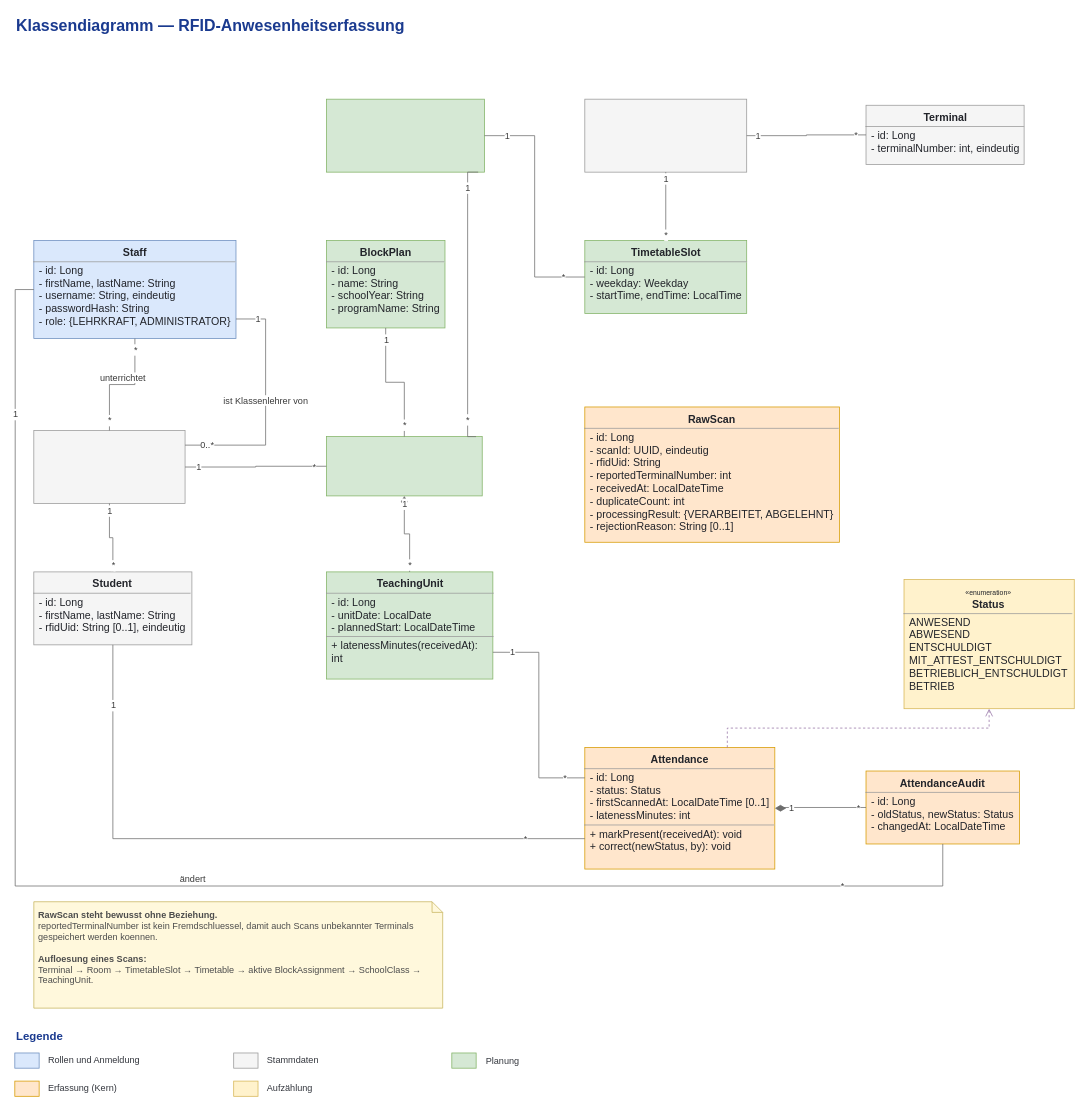
Some shapes in this 1088 by 1110 pixel diagram are drawn without their labels. The centre of each missing label's shape, as x and y in pixels:
BlockAssignment - id: Long - startsOn, endsOn: LocalDate: the point at 404,466
Room - id: Long - roomNumber: String, eindeutig - description: String [0..1]: the point at 665,135
SchoolClass - id: Long - classCode: String, eindeutig - displayName: String: the point at 109,467
Timetable - id: Long - name: String - validFrom, validTo: LocalDate: the point at 405,135
